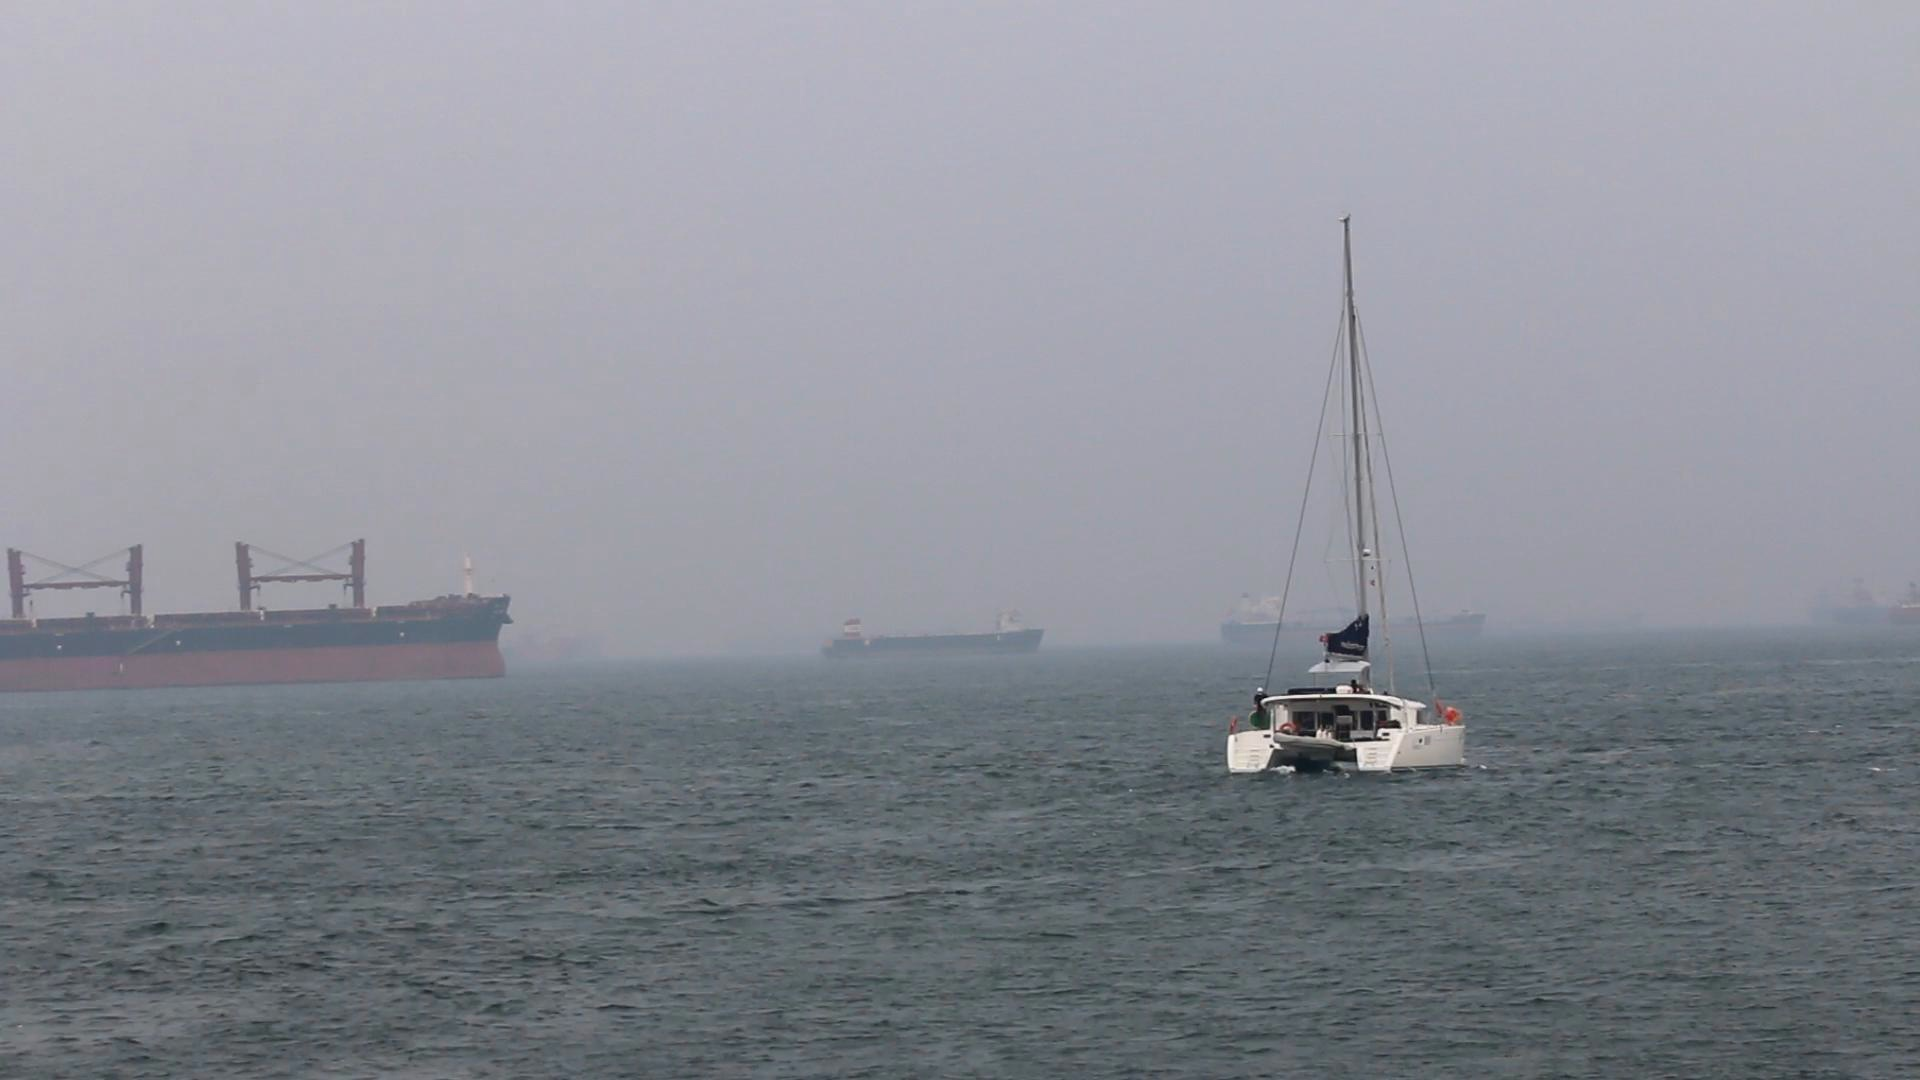Container Ship: (3, 541, 512, 683), (1221, 597, 1489, 644), (827, 615, 1054, 659), (1837, 578, 1916, 634)
